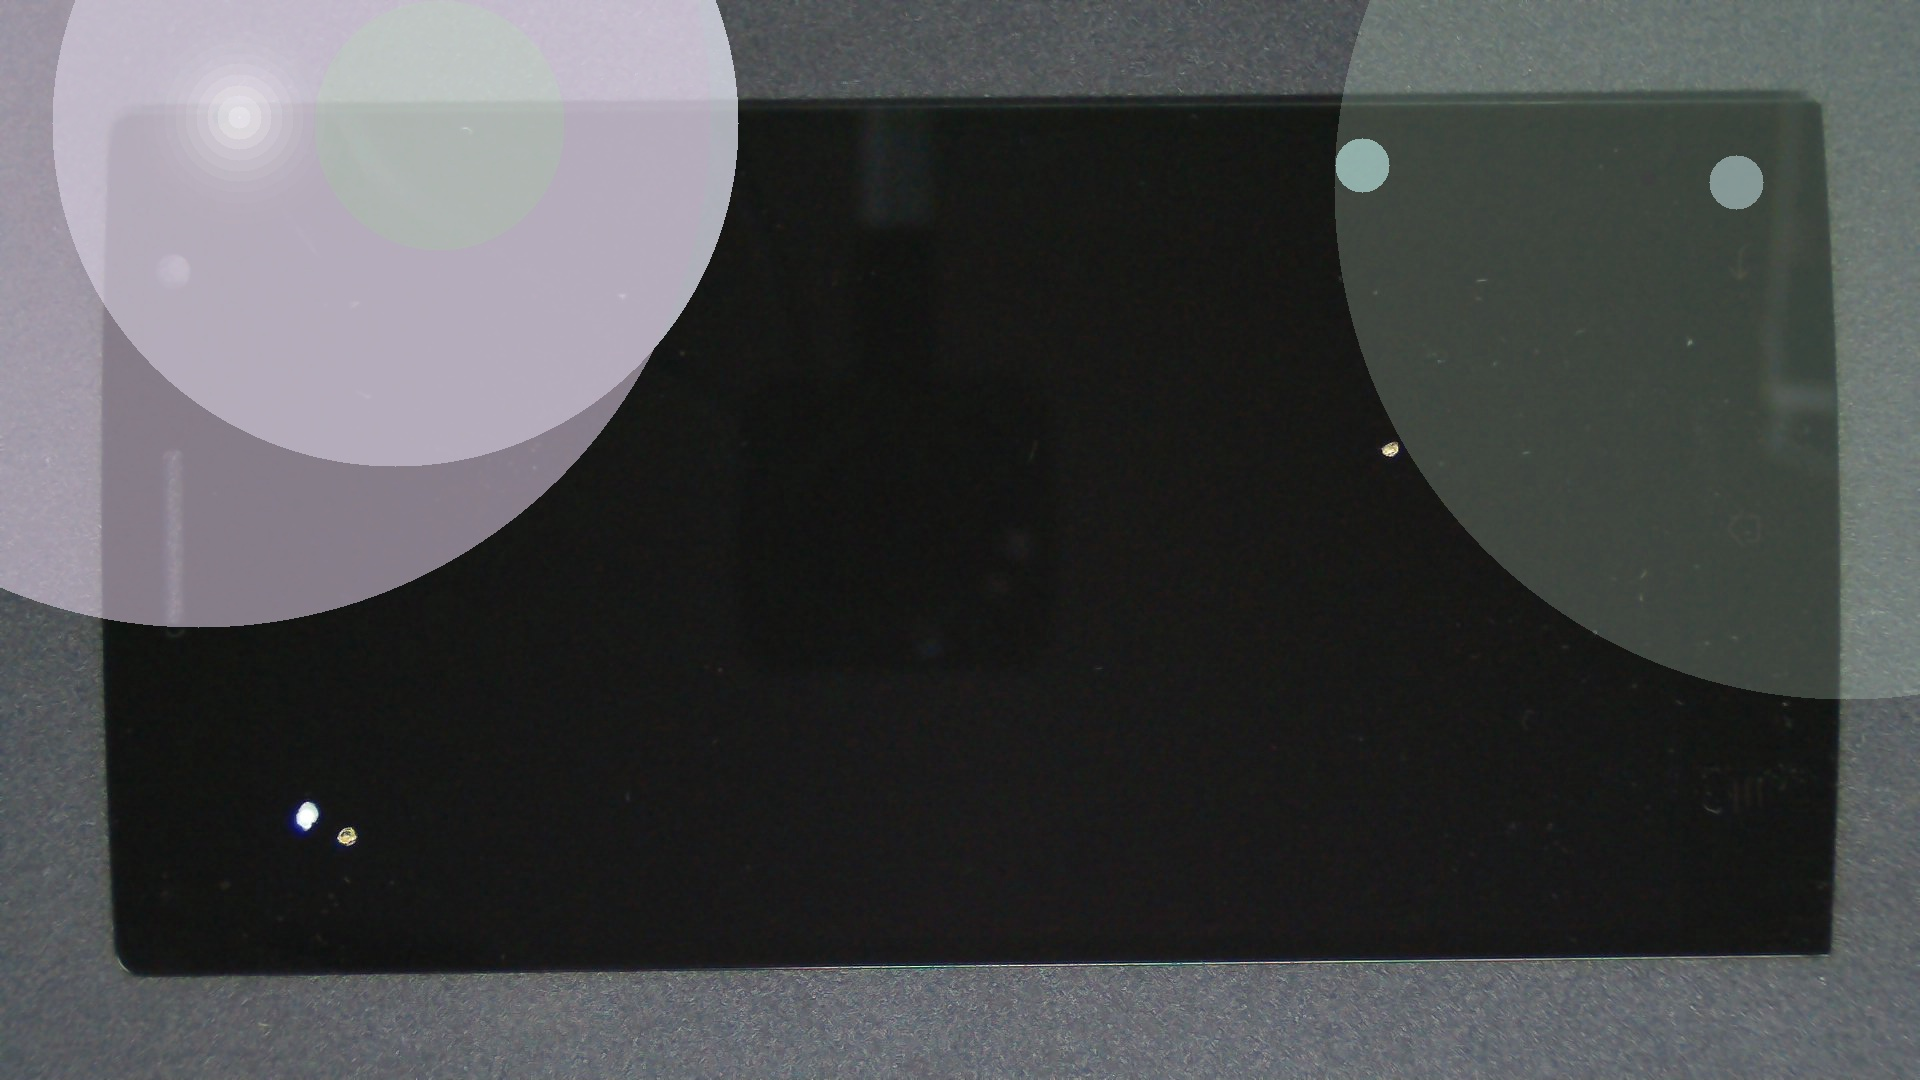oil: (696, 219, 1920, 661), (175, 411, 524, 1080), (154, 400, 462, 1080)
